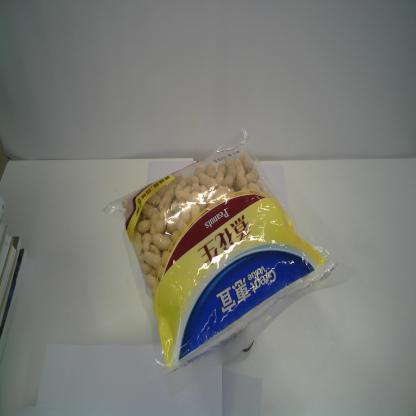Dried Food: (100, 124, 360, 394)
